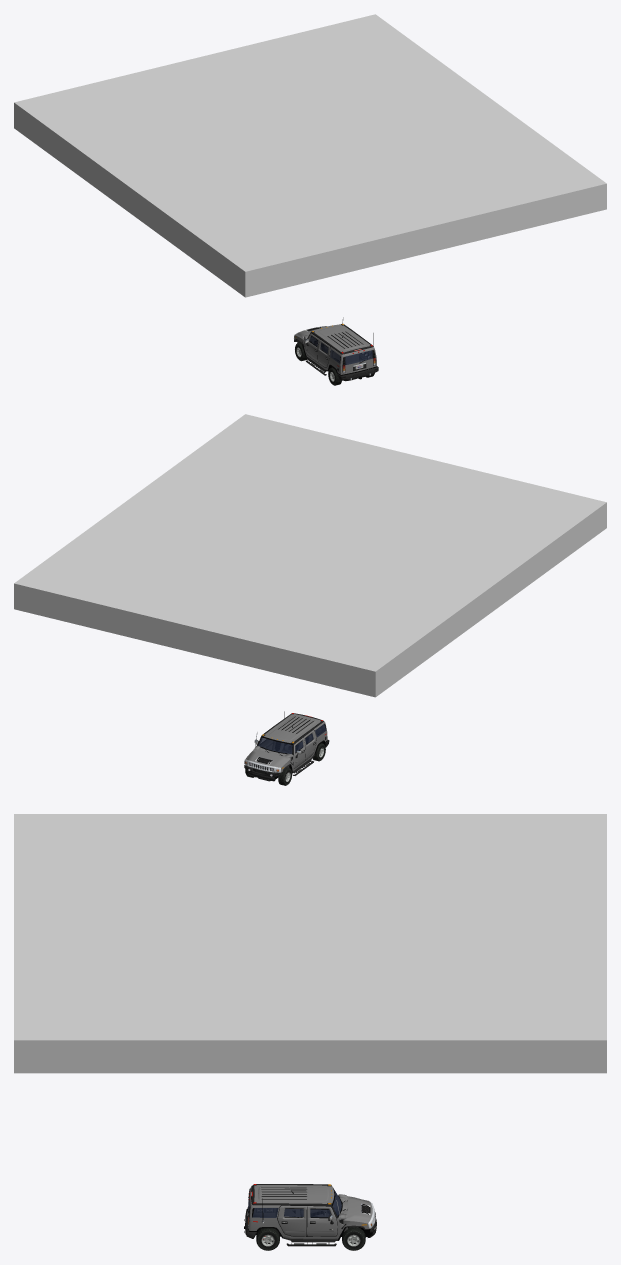
The model's file is hummer_nfsu2.obj.
3 renders of one model, top to bottom at view 1: azimuth 30°, elevation 25°; view 2: azimuth 150°, elevation 25°; view 3: azimuth 270°, elevation 25°, orthographic. The views are drawn at different scales.
Parts seen in each view (by area): view 1: reflect_box01, Eng; view 2: reflect_box01, Eng, 1S, Int; view 3: reflect_box01, Eng, 1S, Int.
Boxes of the visible parts, left/top/right/bottom form: reflect_box01: left=14, top=14, right=606, bottom=297; Eng: left=293, top=317, right=378, bottom=381; reflect_box01: left=14, top=414, right=606, bottom=697; Eng: left=244, top=711, right=329, bottom=781; 1S: left=258, top=724, right=326, bottom=753; Int: left=257, top=725, right=325, bottom=767; reflect_box01: left=14, top=814, right=606, bottom=1073; Eng: left=244, top=1184, right=376, bottom=1246; 1S: left=248, top=1189, right=341, bottom=1217; Int: left=248, top=1188, right=347, bottom=1231.
Size of what is drawn, in the model's own units: 19.23 by 11.76 by 21.31.
4 materials, 2 textured.
